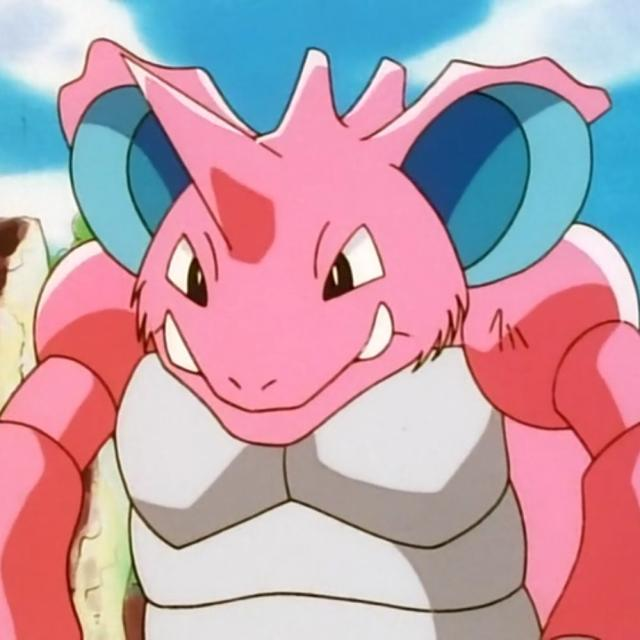Nidoking: (51, 42, 609, 640)
